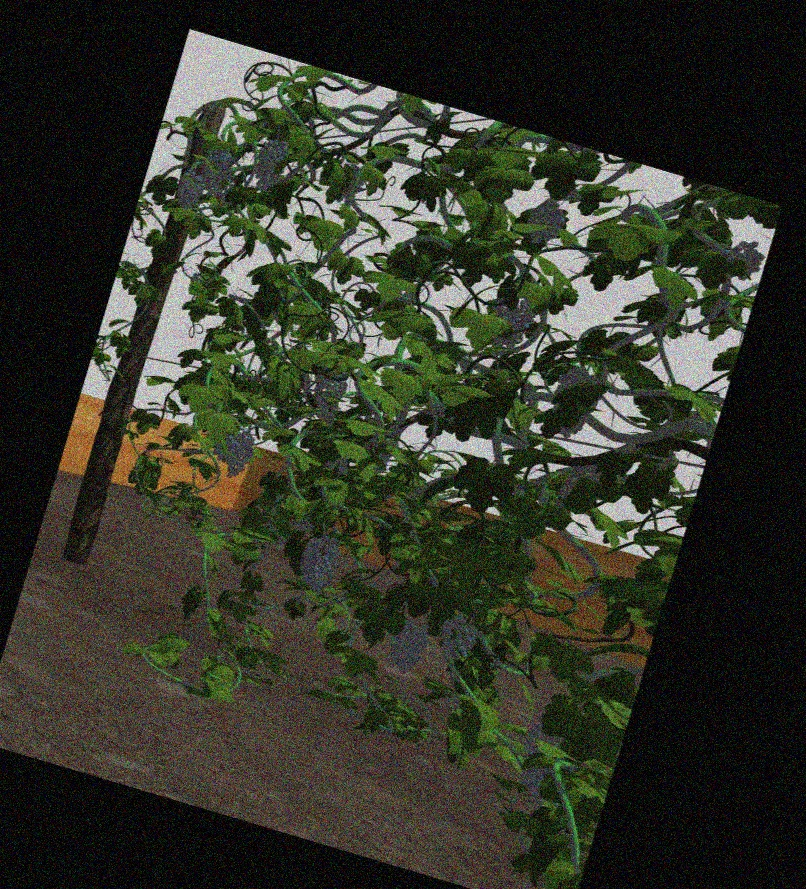grape: (519, 723, 559, 797), (300, 534, 338, 594), (389, 616, 428, 672), (436, 612, 477, 664), (524, 196, 563, 245), (256, 137, 285, 190), (311, 370, 345, 414), (727, 239, 763, 280), (227, 429, 253, 481), (203, 144, 230, 191), (175, 170, 201, 207)
